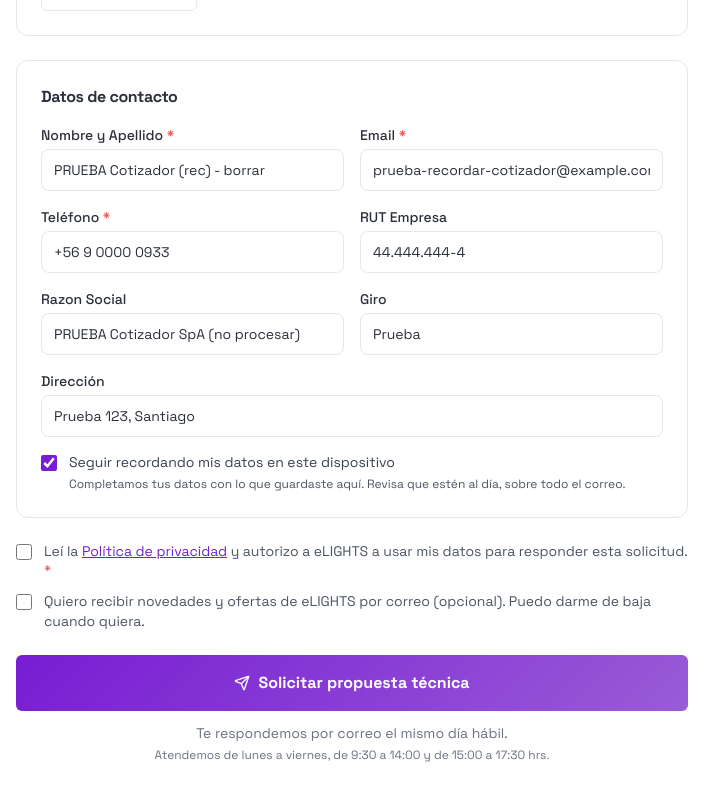
Test: /cotizador: recordar mis datos › desmarcar borra al instante sin vaciar los campos
(page scrolled)
Check: the field labelled "Nombre y Apellido *" is enabled, box [41,149,344,191]
What coordinates should you click on to do the following:
click the checkbox labelled "Seguir recordando mis datos en este dispositivo"
I would click on:
 (49, 463)
Its box is [41,455,57,471].
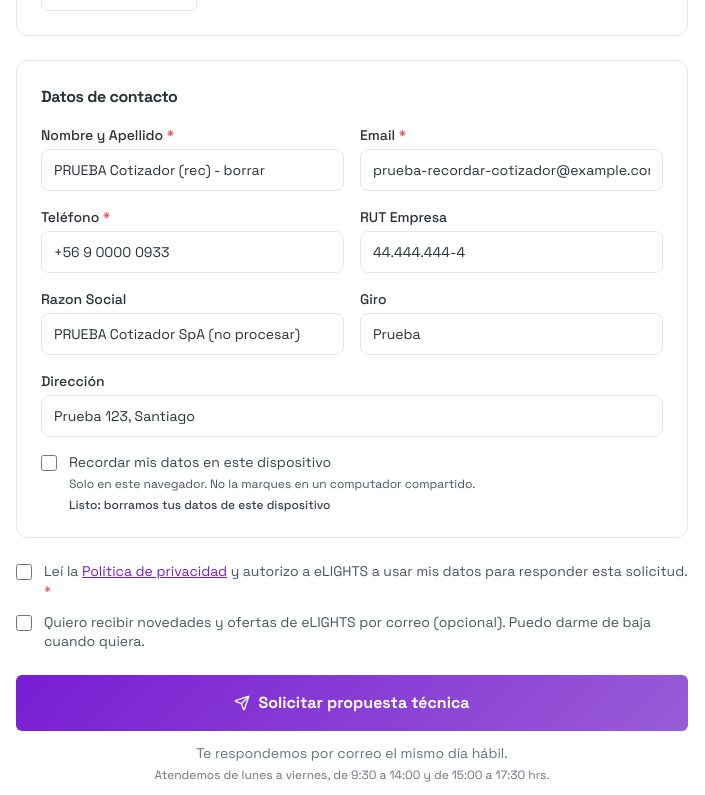
Check: the message "Listo: borramos tus datos de este dispositivo" is shown, box [69,497,330,513]
Check: the label "Recordar mis datos en este dispositivo" is shown, box [41,453,331,471]
Check: the text "Recordar mis datos en este dispositivo" is shown, box [69,453,331,472]
